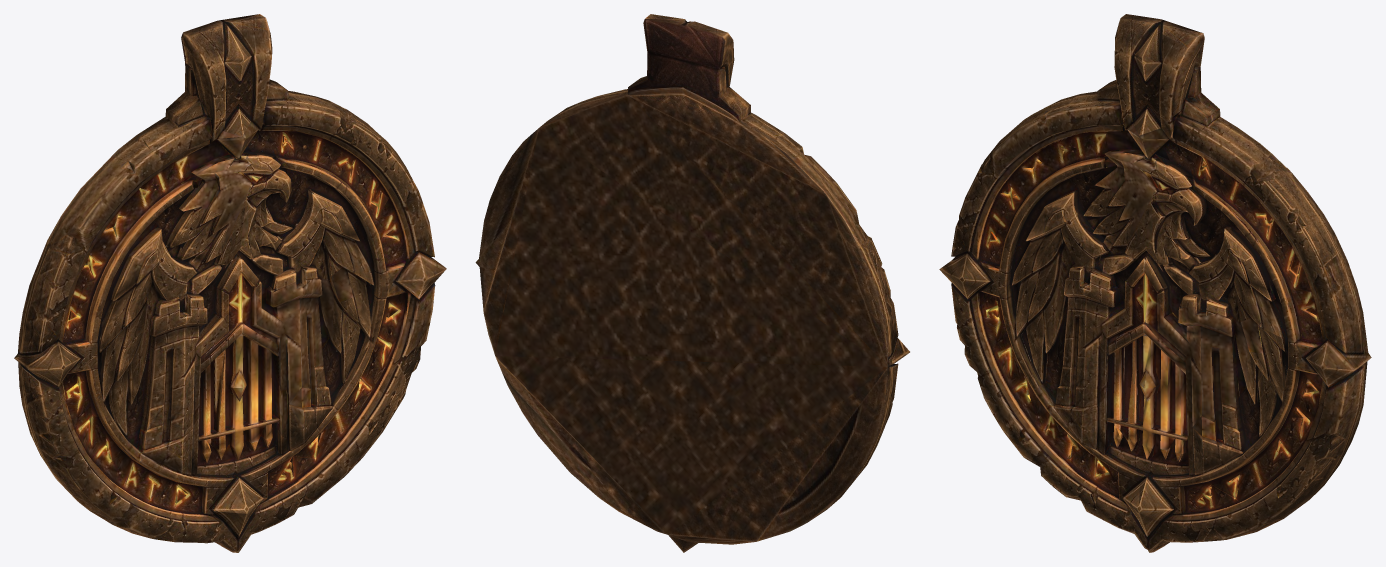
Rendered from named-wardens_oath.glb.
The picture shows the model from 3 angles, left to right: view 1: azimuth 30°, elevation 25°; view 2: azimuth 150°, elevation 25°; view 3: azimuth 330°, elevation 25°; orthographic projection.
Size of the model in its own units: 1.66 by 2 by 0.1793.
Materials: 1 (1 with a texture image).
